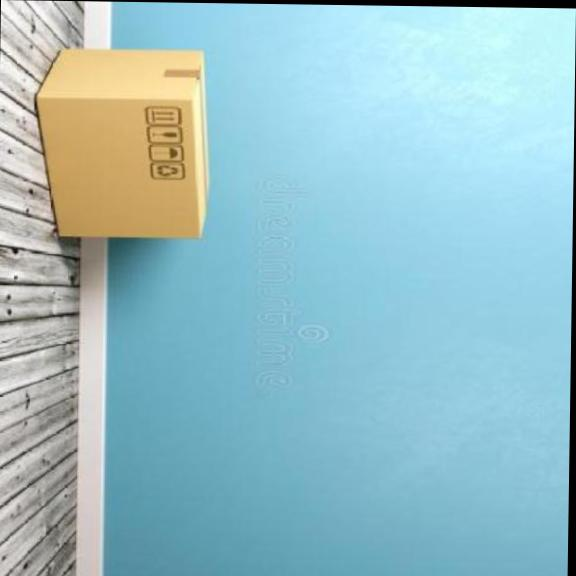Kertas: (35, 47, 208, 254)
